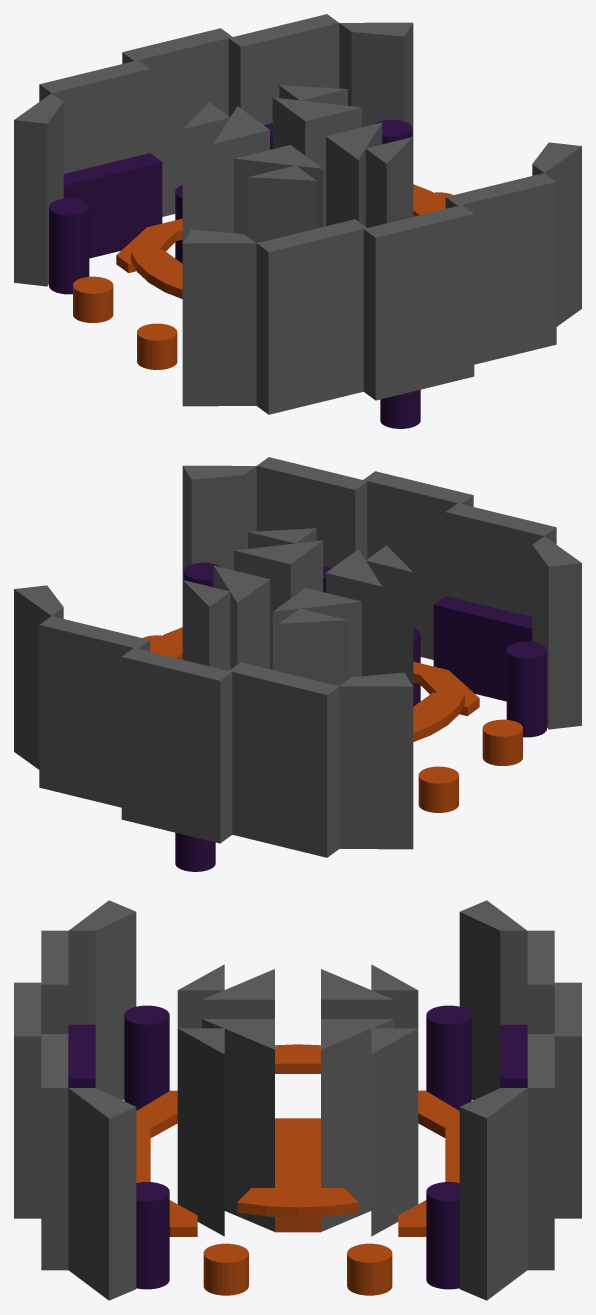
The model's file is StructureFinaleLD.FBX.
3 views of the same model, one above another, from view 1: azimuth 30°, elevation 25°; view 2: azimuth 150°, elevation 25°; view 3: azimuth 270°, elevation 25° (orthographic). The views are drawn at different scales.
Visible parts, largest first — view 1: Box602, Box600, Box601, Object026, Box612, Box597, Box598, Object019, Object024, Box596, Object025, Object029 (+15 smaller); view 2: Box612, Box597, Box598, Object019, Box602, Box600, Box601, Object026, Object025, Object023, Object024, Box603 (+15 smaller); view 3: Object024, Object025, Object019, Object026, Object030, Object031, Object027, Object028, Box598, Box601, Box602, Box612 (+19 smaller).
Part boxes in pixels (left/top/right/bottom): Box602: left=363, top=205, right=474, bottom=400; Box600: left=256, top=219, right=366, bottom=414; Box601: left=445, top=173, right=556, bottom=364; Object026: left=182, top=229, right=256, bottom=406; Box612: left=122, top=28, right=232, bottom=216; Box597: left=39, top=60, right=150, bottom=173; Box598: left=228, top=14, right=339, bottom=124; Object019: left=14, top=93, right=63, bottom=286; Object024: left=339, top=22, right=413, bottom=136; Box596: left=63, top=153, right=162, bottom=258; Object025: left=532, top=142, right=581, bottom=326; Object029: left=248, top=165, right=316, bottom=242; Box612: left=121, top=648, right=232, bottom=843; Box597: left=229, top=662, right=339, bottom=857; Box598: left=39, top=616, right=150, bottom=807; Object019: left=339, top=672, right=413, bottom=849; Box602: left=363, top=471, right=473, bottom=659; Box600: left=445, top=503, right=556, bottom=616; Box601: left=256, top=457, right=367, bottom=567; Object026: left=532, top=536, right=581, bottom=729; Object025: left=182, top=465, right=256, bottom=579; Object023: left=433, top=596, right=532, bottom=701; Object024: left=14, top=585, right=63, bottom=769; Box603: left=279, top=608, right=347, bottom=685; Object024: left=459, top=1088, right=527, bottom=1300; Object025: left=68, top=1088, right=136, bottom=1300; Object019: left=459, top=900, right=527, bottom=1100; Object026: left=68, top=900, right=136, bottom=1100; Object030: left=321, top=1019, right=393, bottom=1231; Object031: left=202, top=1019, right=274, bottom=1231; Object027: left=371, top=1028, right=418, bottom=1236; Object028: left=177, top=1028, right=224, bottom=1236; Box598: left=527, top=1034, right=554, bottom=1270; Box601: left=41, top=1034, right=68, bottom=1270; Box602: left=14, top=982, right=41, bottom=1218; Box612: left=554, top=982, right=581, bottom=1218.
Bounding box in the file's own units: 11385 × 5784 × 12524.
